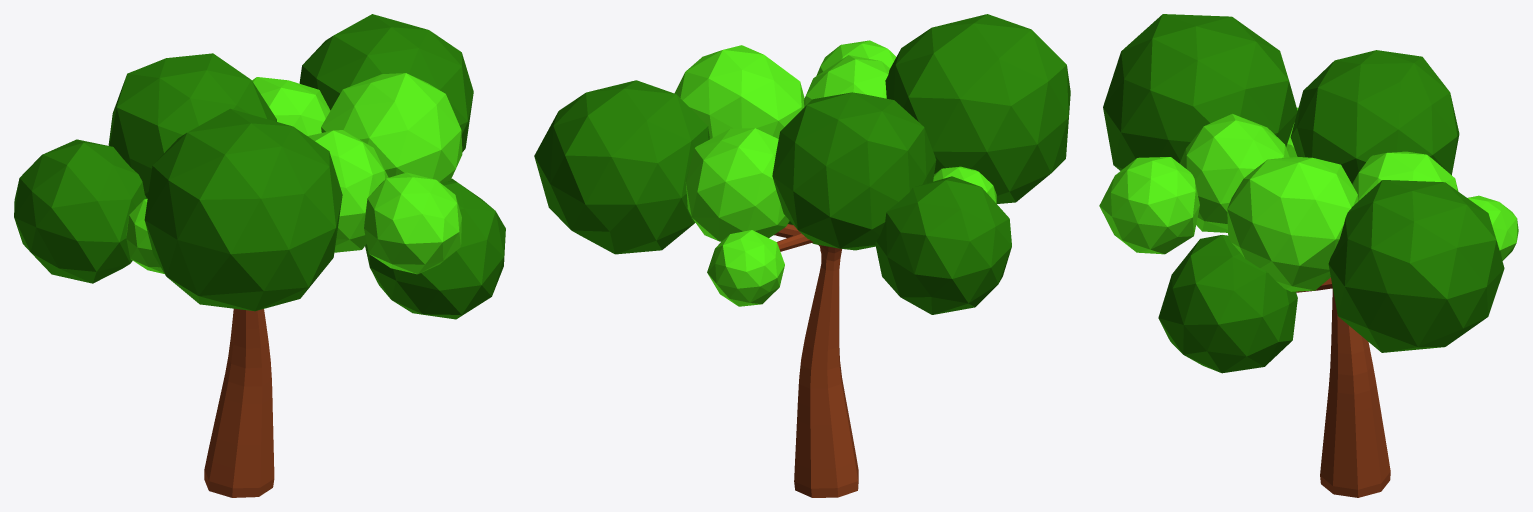
The model's file is Tree.fbx.
3 renders of one model, left to right at view 1: azimuth 30°, elevation 25°; view 2: azimuth 150°, elevation 25°; view 3: azimuth 270°, elevation 25°, orthographic. The views are drawn at different scales.
Parts seen in each view (by area): view 1: Leaf05, Leaf04, Leaf11, Leaf03, Trunk, Leaf08, Leaf07, Leaf06, Leaf01, Leaf02, Leaf10; view 2: Leaf05, Leaf08, Leaf11, Leaf04, Trunk, Leaf02, Leaf03, Leaf09, Leaf01, Leaf06, Leaf10; view 3: Leaf08, Leaf05, Leaf11, Leaf07, Leaf03, Trunk, Leaf06, Leaf01, Leaf02, Leaf09.
Part boxes in pixels (x1,y1,x2,y2): Leaf05: (144, 108, 342, 311); Leaf04: (14, 139, 146, 283); Leaf11: (108, 53, 276, 198); Leaf03: (321, 73, 462, 182); Trunk: (204, 308, 274, 497); Leaf08: (299, 14, 473, 152); Leaf07: (365, 178, 505, 319); Leaf06: (364, 172, 461, 274); Leaf01: (307, 130, 388, 252); Leaf02: (252, 77, 330, 135); Leaf10: (126, 198, 164, 273); Leaf05: (885, 14, 1070, 203); Leaf08: (534, 80, 709, 254); Leaf11: (772, 92, 936, 250); Leaf04: (875, 176, 1011, 314); Trunk: (774, 224, 858, 497); Leaf02: (685, 128, 789, 241); Leaf03: (674, 45, 804, 139); Leaf09: (707, 230, 784, 306); Leaf01: (803, 55, 889, 106); Leaf06: (816, 40, 896, 75); Leaf10: (933, 166, 996, 203); Leaf08: (1328, 180, 1504, 352); Leaf05: (1103, 14, 1297, 170); Leaf11: (1290, 50, 1459, 183); Leaf07: (1158, 235, 1297, 373); Leaf03: (1227, 157, 1358, 291); Trunk: (1296, 277, 1390, 497); Leaf06: (1099, 157, 1199, 254); Leaf01: (1179, 114, 1289, 232); Leaf02: (1352, 151, 1458, 200); Leaf09: (1467, 195, 1518, 260).
Size of the model in its own units: 1016 by 942 by 839.
